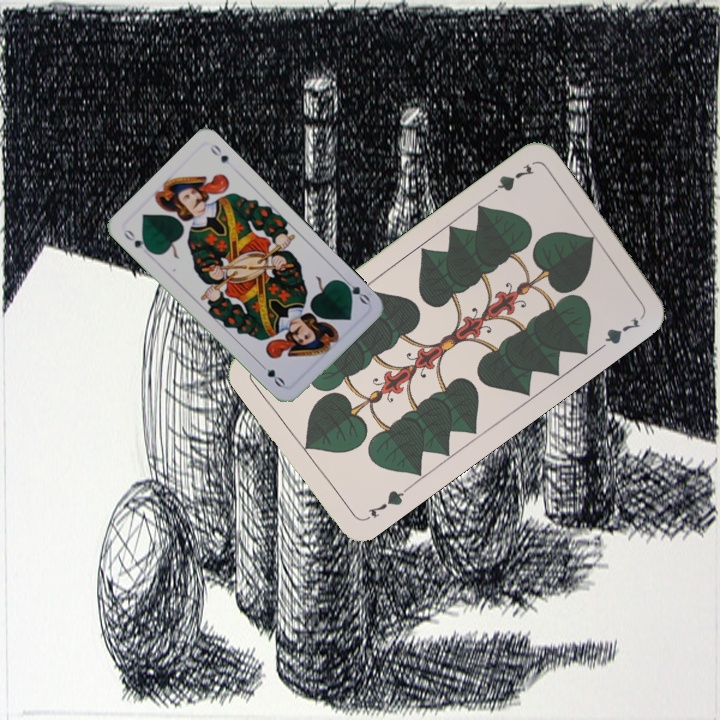G7: (483, 160, 537, 200), (360, 484, 411, 524)
GO: (337, 273, 372, 307), (119, 226, 154, 255)
